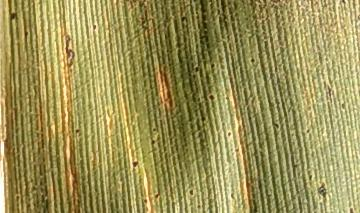tarspot: (5, 6, 19, 25), (269, 117, 283, 135), (129, 156, 143, 172), (204, 89, 218, 105), (247, 52, 259, 69), (138, 195, 151, 208), (89, 19, 101, 33), (71, 124, 83, 138), (19, 27, 32, 39), (207, 58, 219, 71), (175, 13, 189, 24), (191, 62, 202, 76), (198, 112, 209, 125), (152, 189, 163, 202), (345, 202, 358, 213), (187, 184, 197, 198), (147, 136, 156, 147), (220, 92, 229, 103), (225, 129, 232, 138)
